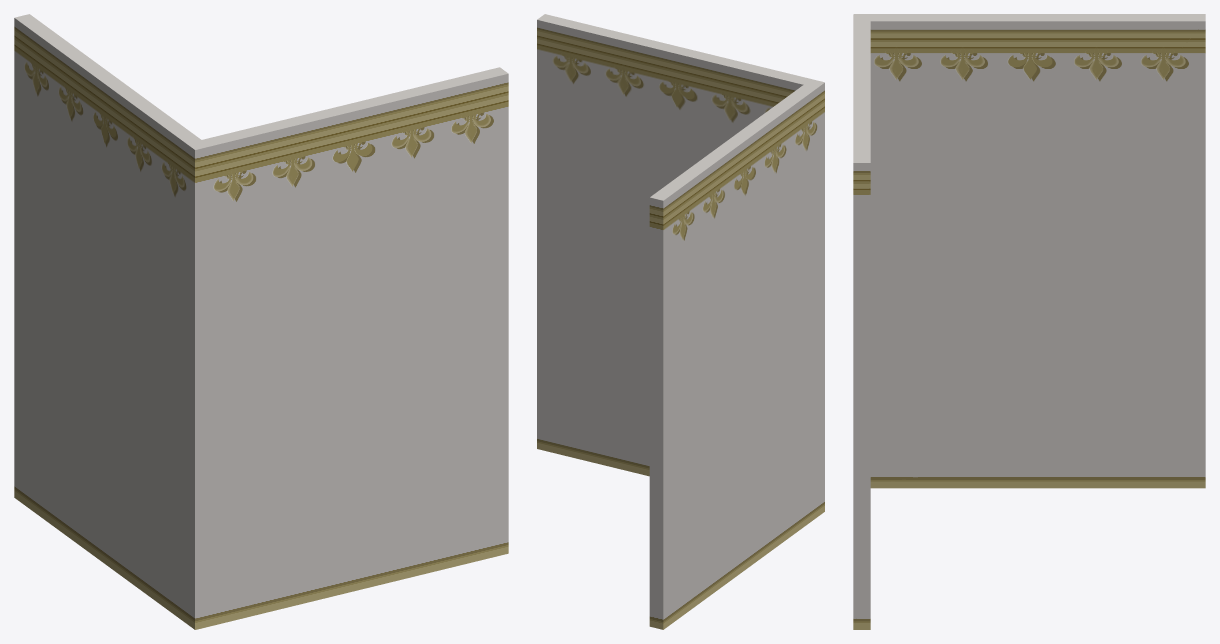
Rendered from geo_CornerWall_01.fbx.
3 views of the same model, side by side, from view 1: azimuth 30°, elevation 25°; view 2: azimuth 150°, elevation 25°; view 3: azimuth 270°, elevation 25° (orthographic). The views are drawn at different scales.
Visible parts, largest first — view 1: geo_CornerWallFull_01, geo_CornerWallFull_02, geo_CornerWallCulled_01, geo_CornerWallCulled_02; view 2: geo_CornerWallFull_02, geo_CornerWallFull_01, geo_CornerWallCulled_02, geo_CornerWallCulled_01; view 3: geo_CornerWallFull_02, geo_CornerWallCulled_02, geo_CornerWallFull_01, geo_CornerWallCulled_01.
Part boxes in pixels (<box>): geo_CornerWallFull_01: <box>187,67,508,565</box>; geo_CornerWallFull_02: <box>14,14,208,565</box>; geo_CornerWallCulled_01: <box>195,489,508,629</box>; geo_CornerWallCulled_02: <box>14,434,195,629</box>; geo_CornerWallFull_02: <box>649,81,824,572</box>; geo_CornerWallFull_01: <box>537,14,823,418</box>; geo_CornerWallCulled_02: <box>649,455,824,629</box>; geo_CornerWallCulled_01: <box>537,392,649,476</box>; geo_CornerWallFull_02: <box>854,14,1205,425</box>; geo_CornerWallCulled_02: <box>870,426,1205,488</box>; geo_CornerWallFull_01: <box>853,14,870,567</box>; geo_CornerWallCulled_01: <box>853,567,870,629</box>.
Size of the model in its own units: 103 by 150 by 102.
1 material, 1 textured.
